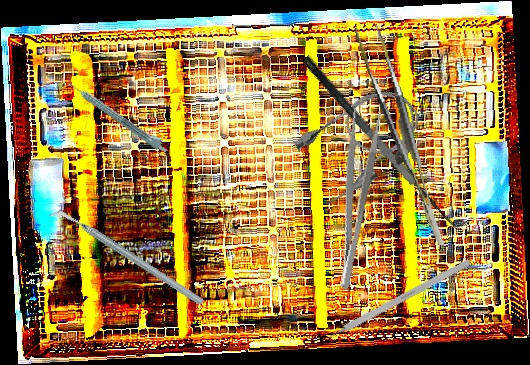Cannula: (285, 73, 436, 212)
Chopper: (47, 167, 205, 348)
Dressing Forceps: (321, 105, 385, 292)
Handpiece: (66, 75, 172, 156)
Hook Surgical: (313, 258, 472, 348)
Spatula Surgical: (300, 42, 472, 238)
Tissue Forceps: (354, 19, 445, 254)
